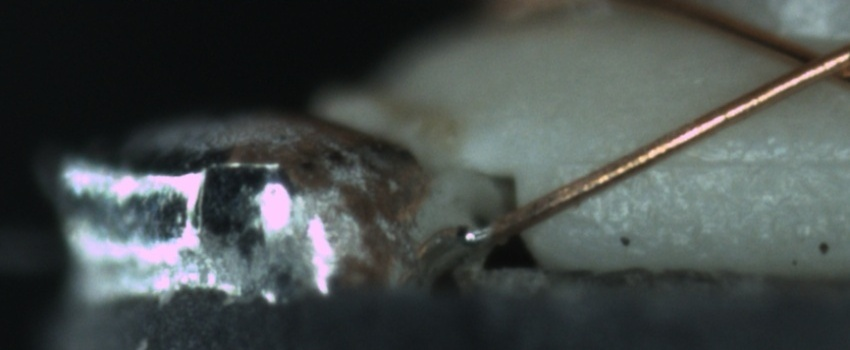CL: (770, 32, 849, 93)
DL: (565, 131, 845, 195)
